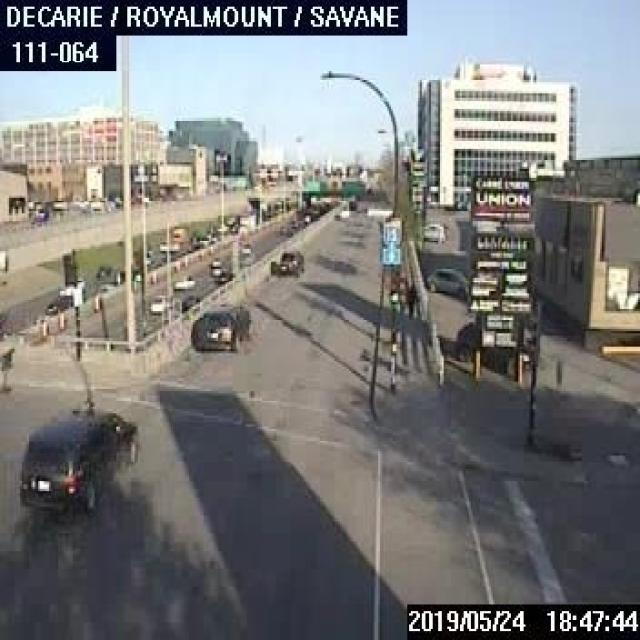pedestrian: (404, 280, 418, 320)
vehicle: (17, 410, 138, 509), (455, 320, 533, 374), (196, 302, 251, 351), (425, 265, 469, 300), (271, 249, 304, 275), (424, 220, 444, 243), (172, 271, 195, 291), (149, 291, 167, 313), (178, 294, 199, 310), (216, 268, 232, 282), (210, 258, 220, 274)
